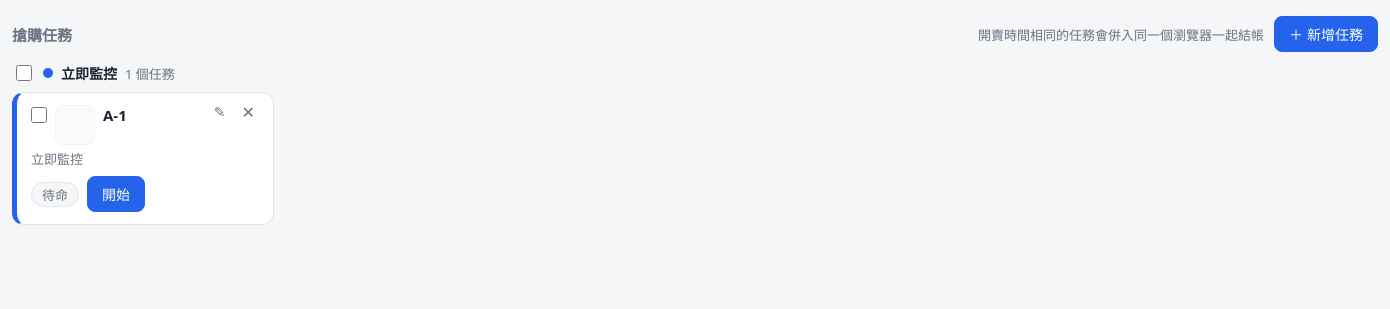
Test: ProductGrid › starts the selected startable jobs and clears selection on success
Click the checkbox named "選取整組": {"x": 24, "y": 73} [16,65,32,81]
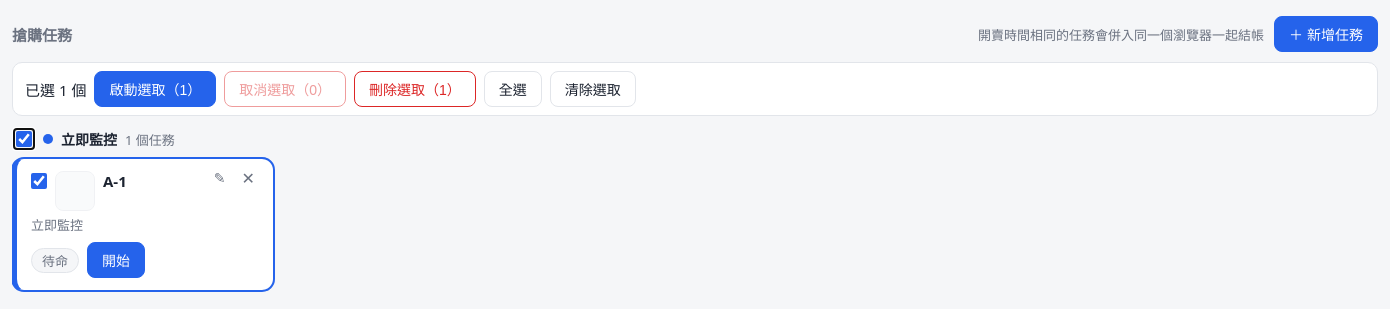
Click the button "啟動選取（1）": {"x": 155, "y": 89} [94,71,216,107]
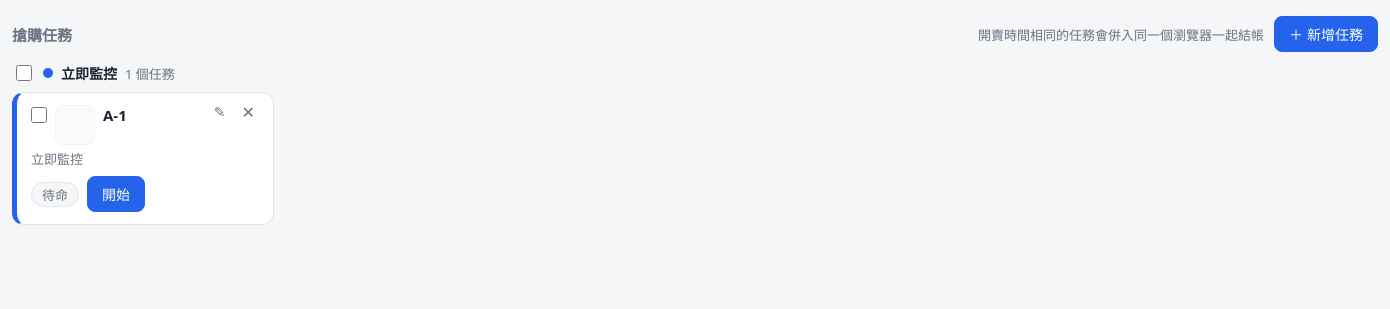
expect the text "已選" is gone: met
